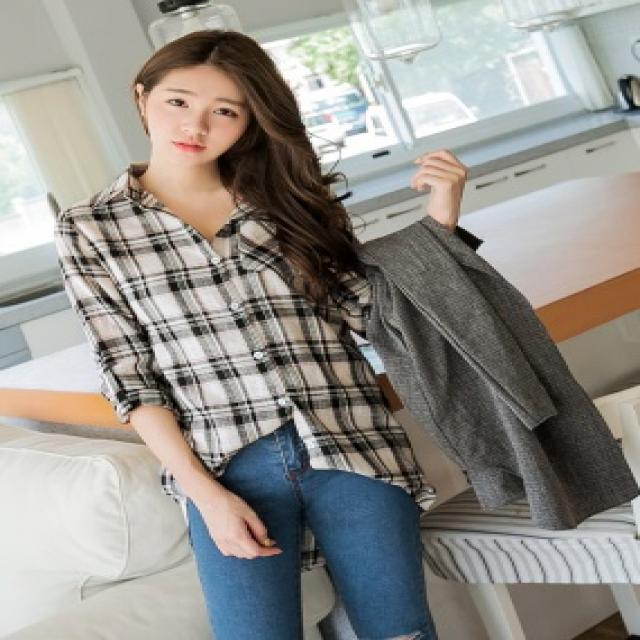plaid: (43, 173, 410, 486)
